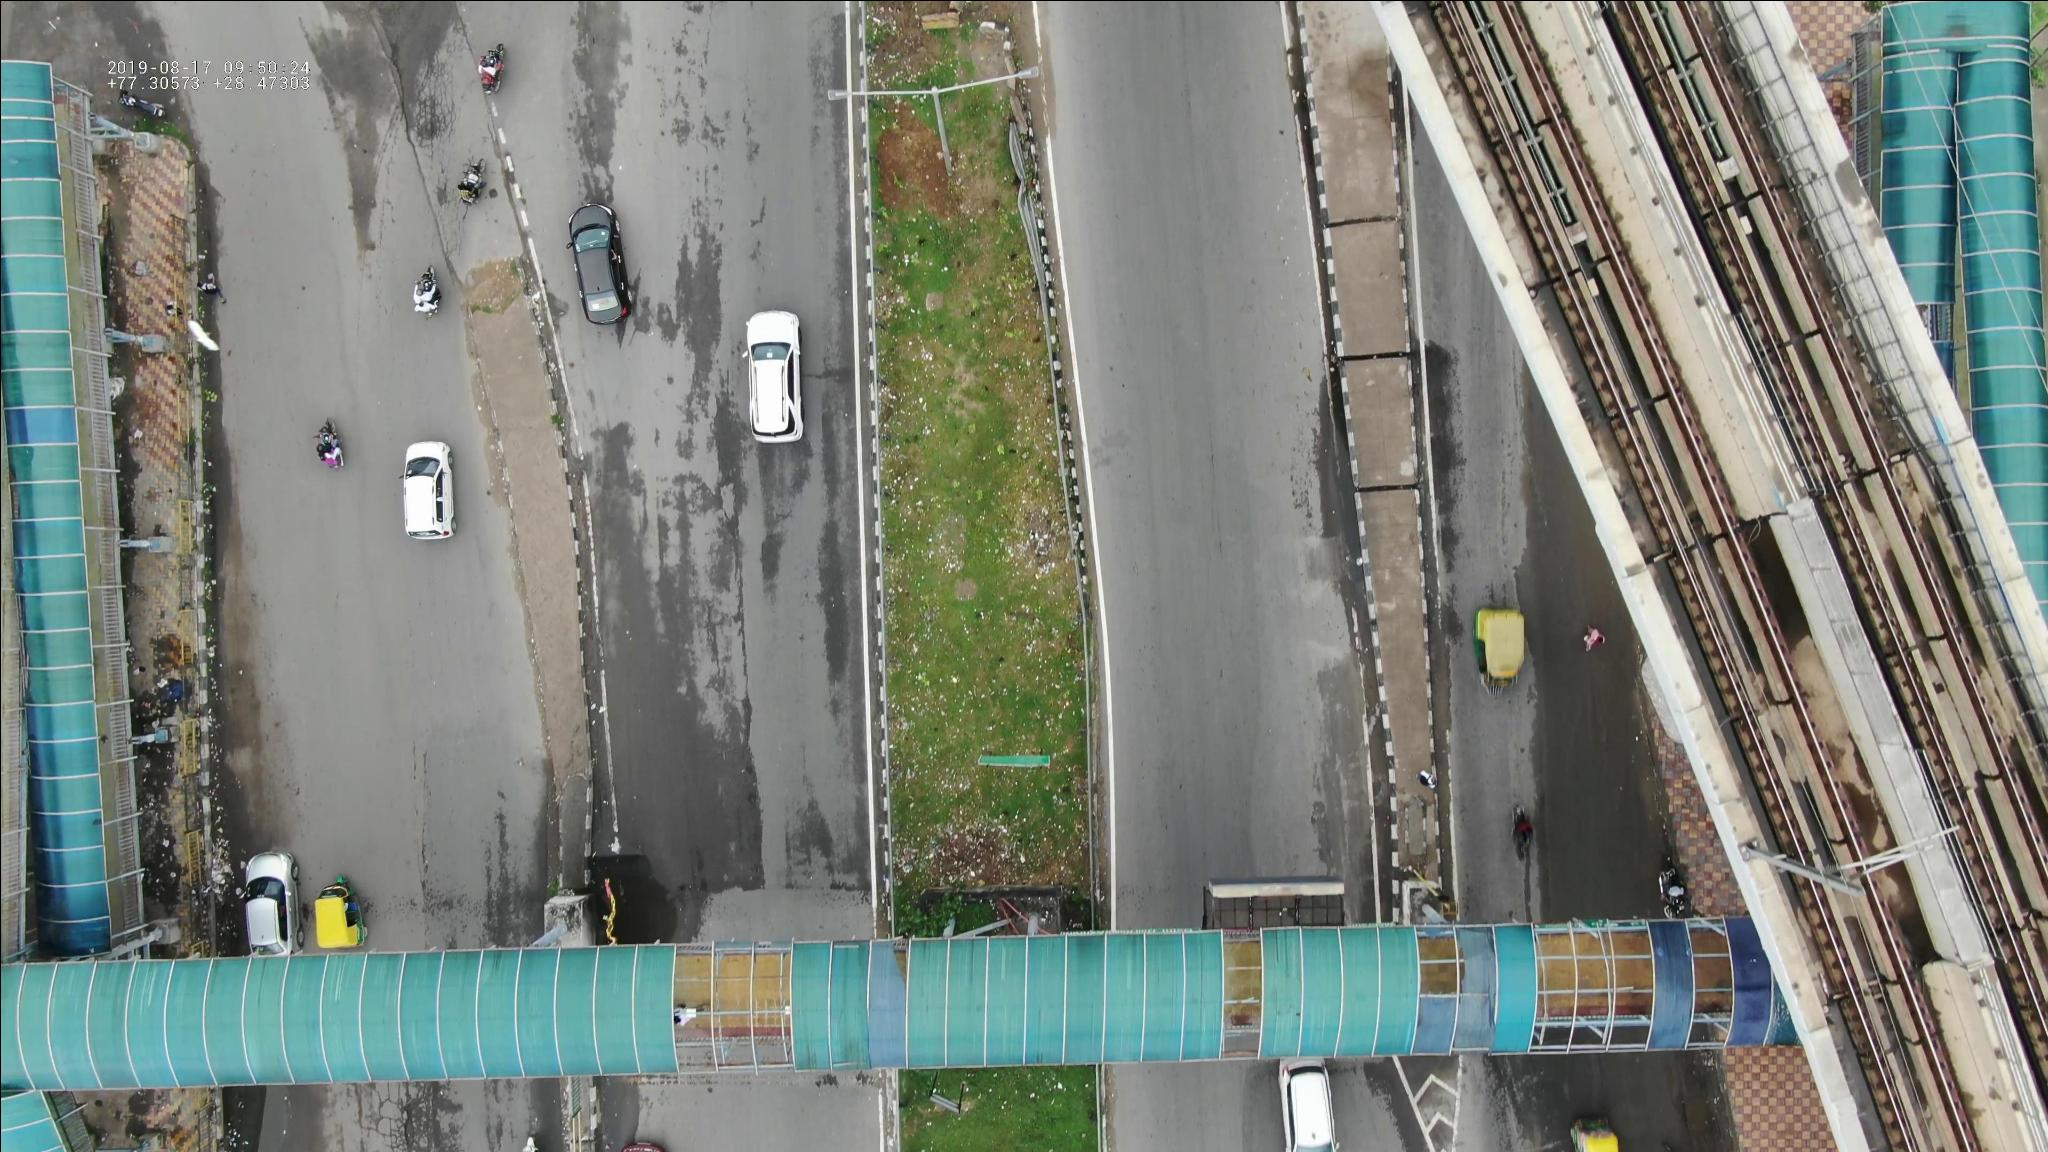Cracks: (647, 32, 767, 165)
